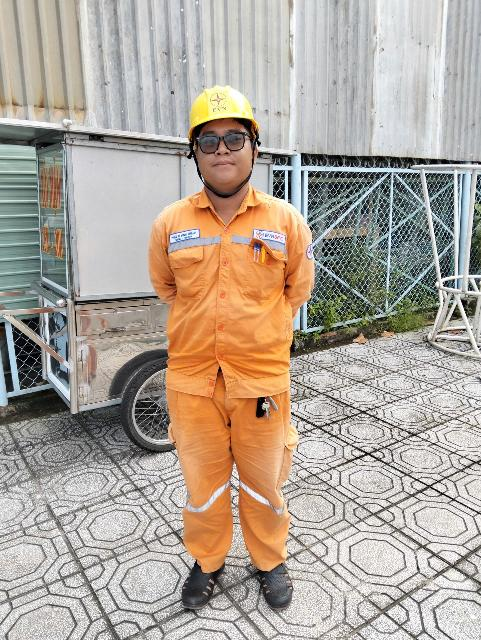helmet: (166, 82, 283, 138)
shoes: (235, 546, 304, 609), (171, 551, 224, 609)
